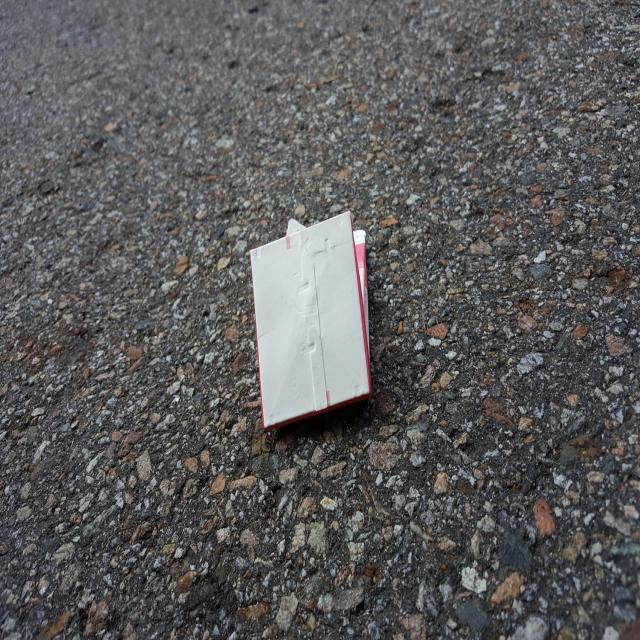paperpack: (251, 211, 372, 430)
